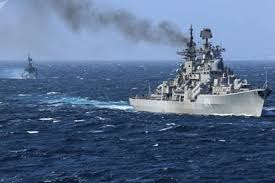tau_muctieu: (128, 42, 265, 117), (10, 58, 41, 79)
